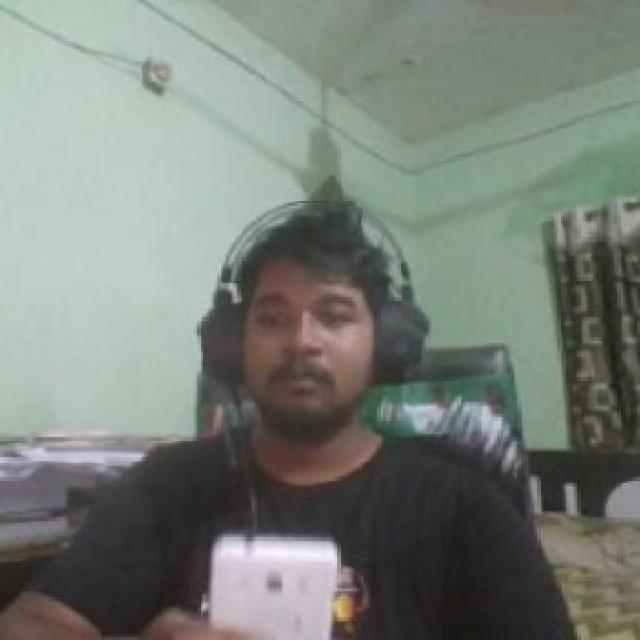Phone: (206, 529, 342, 637)
